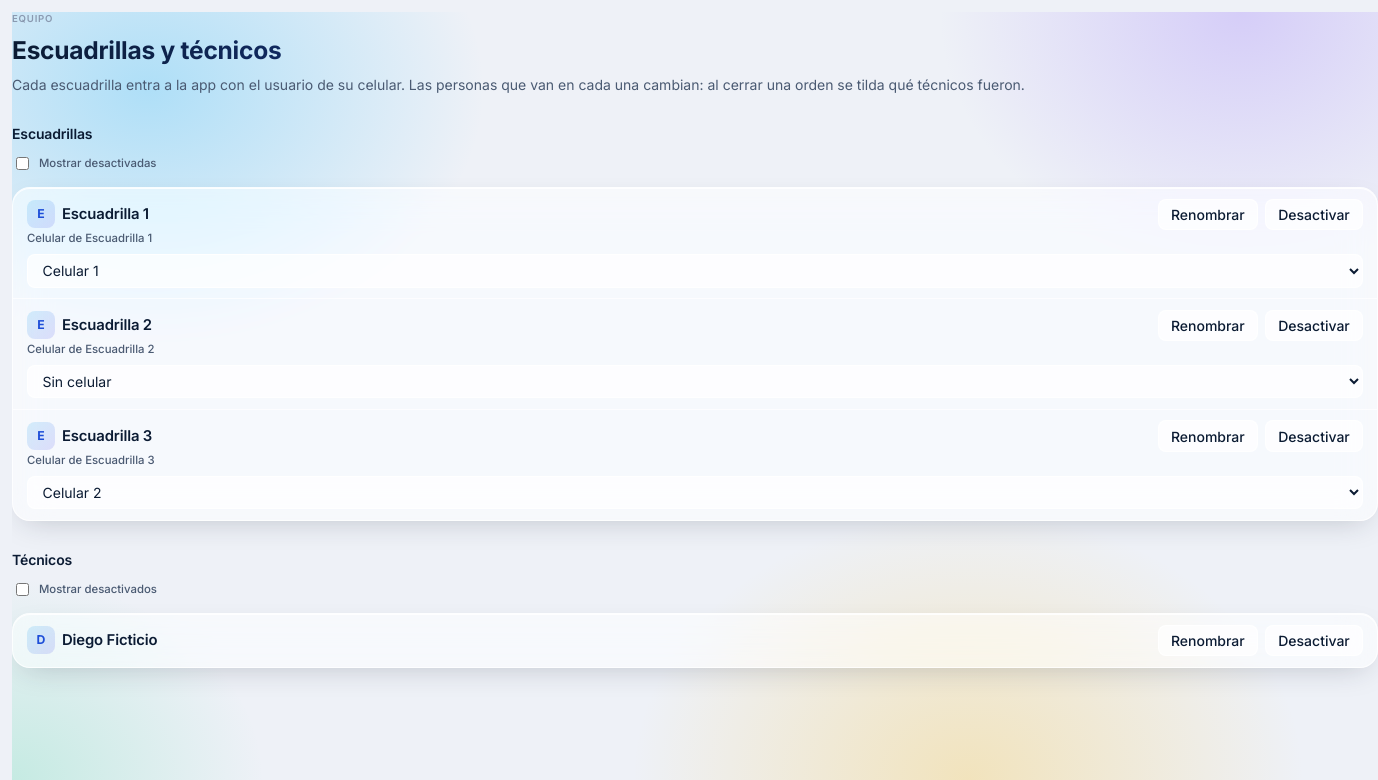
Test: CrewsPage › explica por qué no se puede desactivar una escuadrilla con órdenes abiertas
The image size is (1378, 780).
Click the button with aria-label "Desactivar Escuadrilla 1".
click(1314, 214)  # box [1265,199,1363,230]
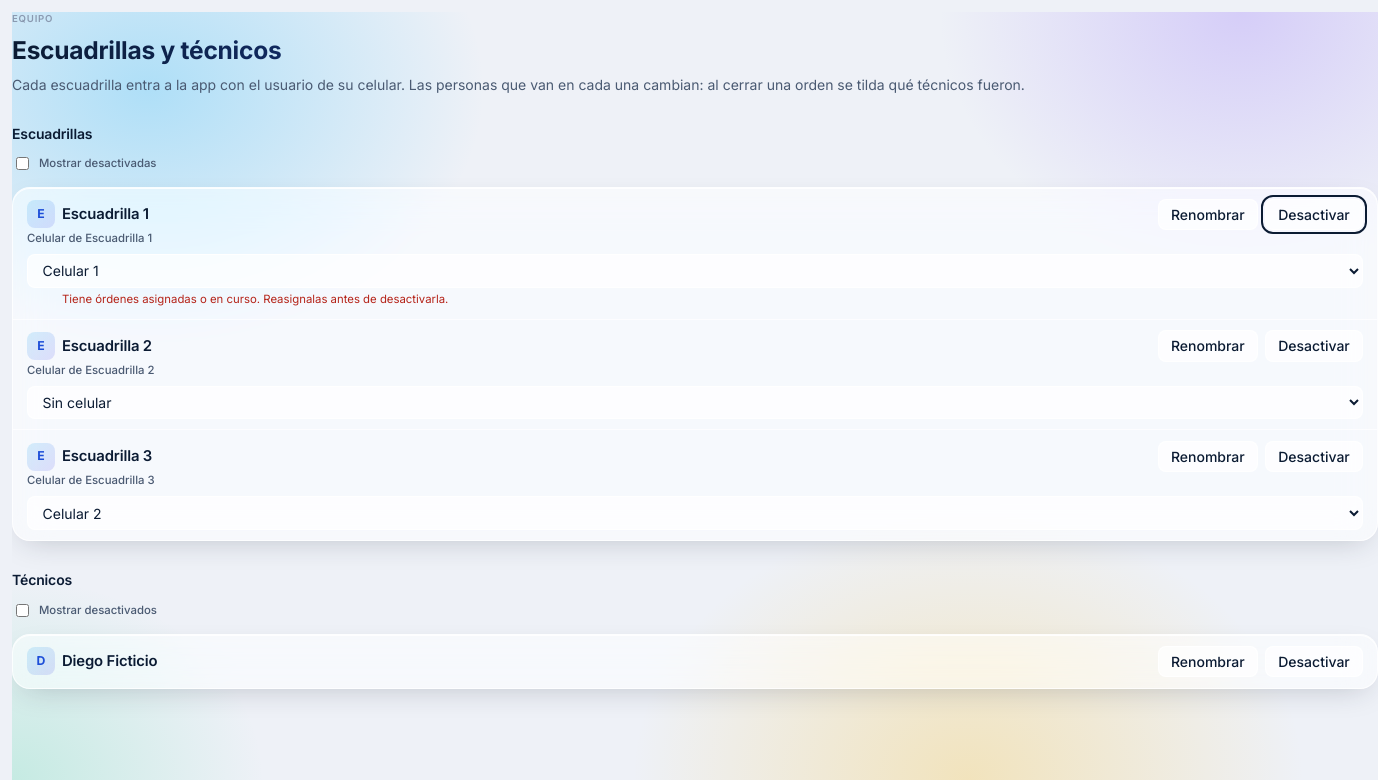
Expected: the message does not show "Ya existe", [62,292,448,306]
Expected: the message reads "Tiene órdenes asignadas o en curso. Reasignalas antes de desactivarla.", [62,292,448,306]
